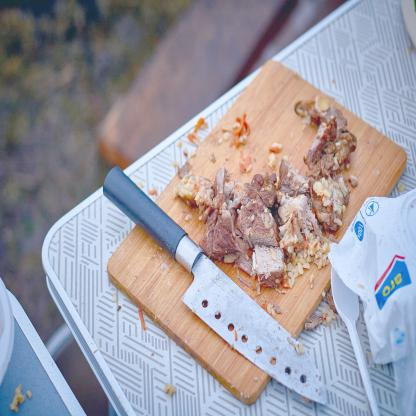Carne: (233, 194, 277, 244), (251, 240, 294, 289), (207, 196, 237, 260), (286, 156, 309, 194)
